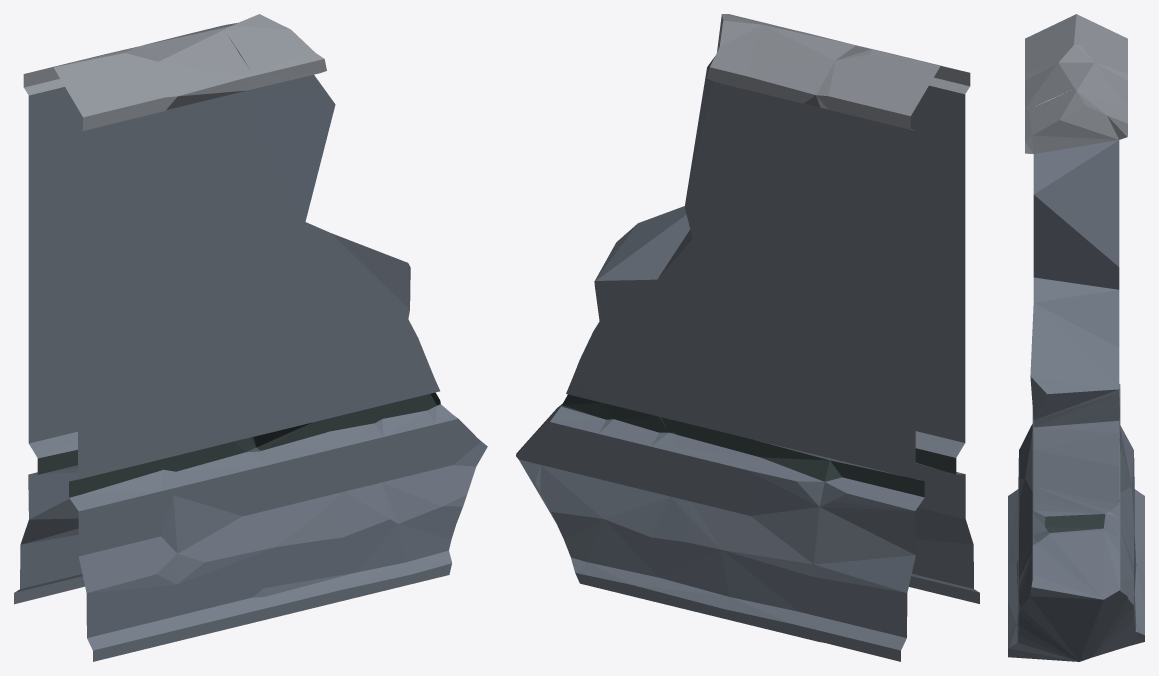
Rendered from BrokenWall1.fbx.
The picture shows the model from 3 angles, left to right: view 1: azimuth 30°, elevation 25°; view 2: azimuth 150°, elevation 25°; view 3: azimuth 270°, elevation 25°; orthographic projection. The views are drawn at different scales.
Visible parts, largest first — view 1: BrokenWall1; view 2: BrokenWall1; view 3: BrokenWall1.
Boxes of the visible parts, x1=… form: BrokenWall1: x1=14, y1=14, x2=487, y2=661; BrokenWall1: x1=516, y1=14, x2=979, y2=661; BrokenWall1: x1=1008, y1=14, x2=1144, y2=661.
Bounding box in the file's own units: 359 × 476 × 120.
